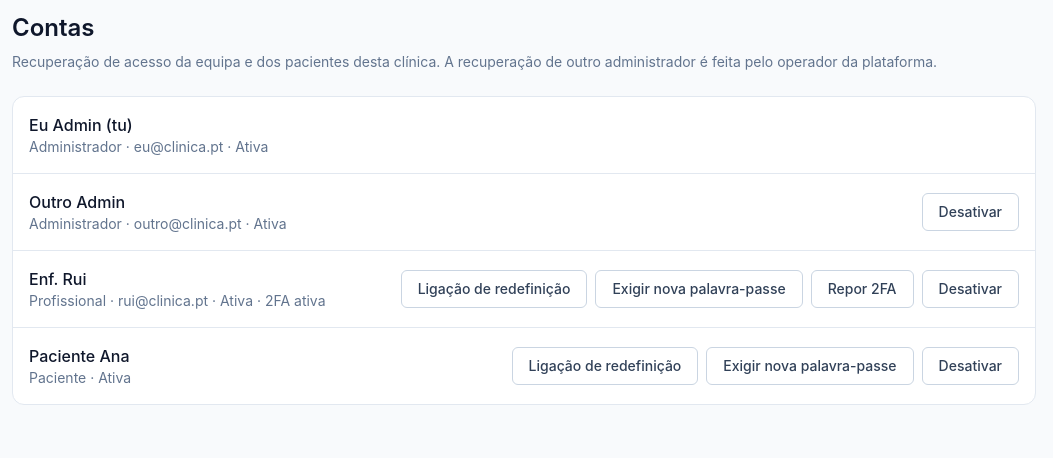
Test: AccountsPage › shows a failed action as an alert and no success message
expect the text "Enf. Rui" is shown: met, box [29, 269, 86, 289]
Click the button "Repor 2FA" at x=862, y=289, box [811, 270, 914, 308]
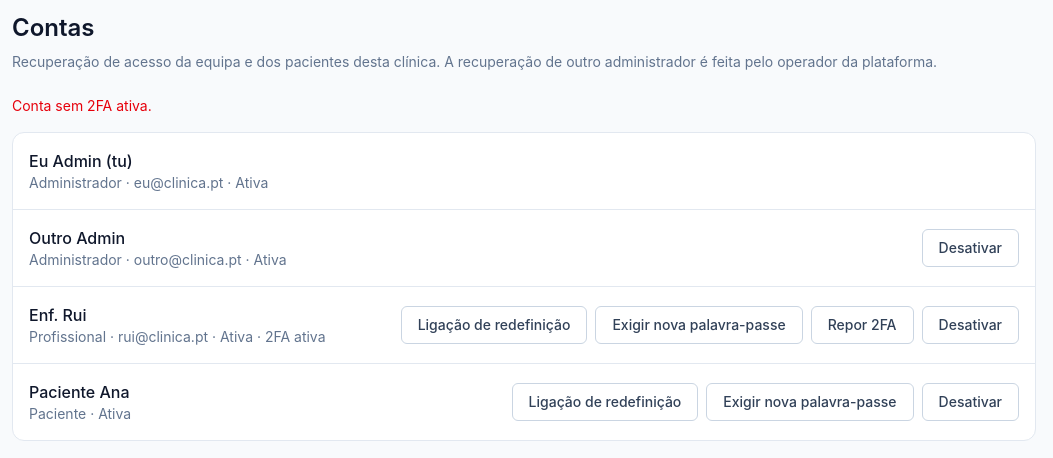
expect the message reads "Conta sem 2FA ativa.": met, box [12, 97, 152, 114]
